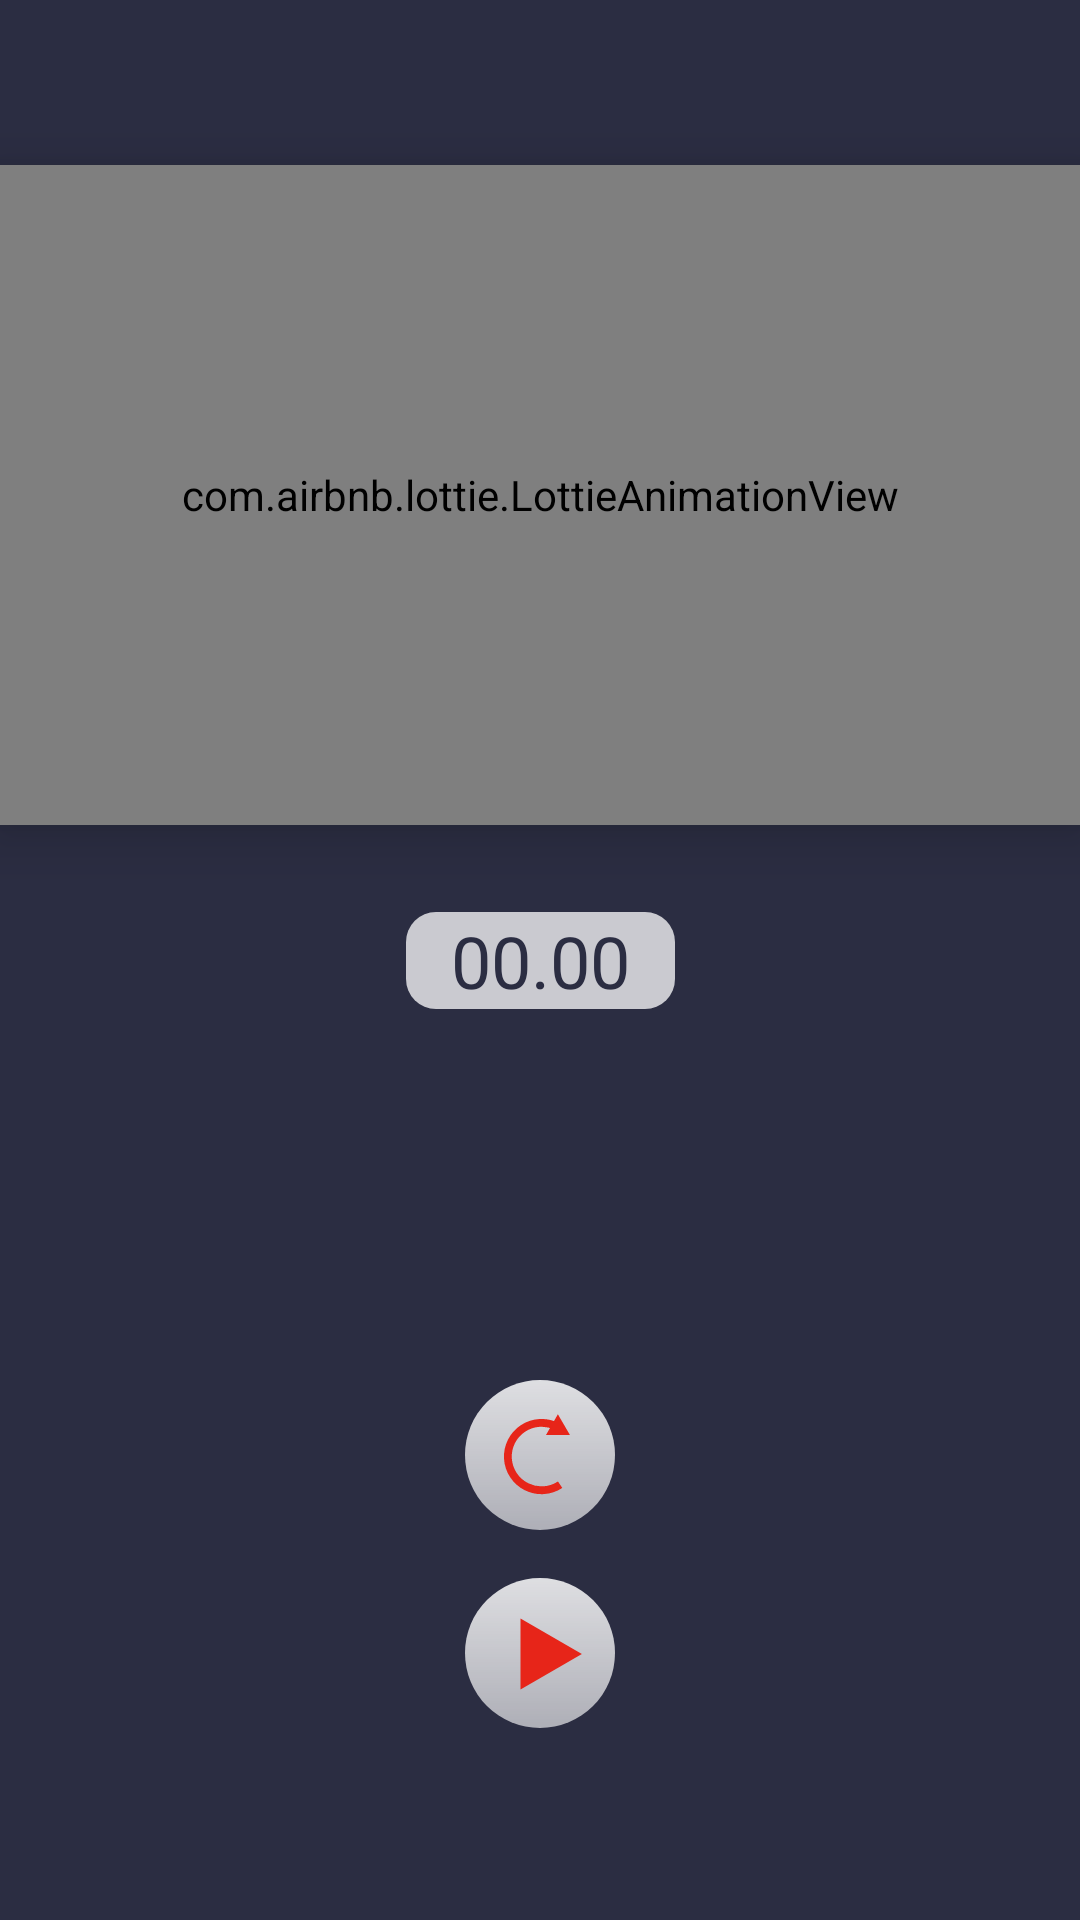

Where to tap for icons on this 1080 × 1920 app screen, as (x,y):
reset: (540,1455)
start: (540,1653)
